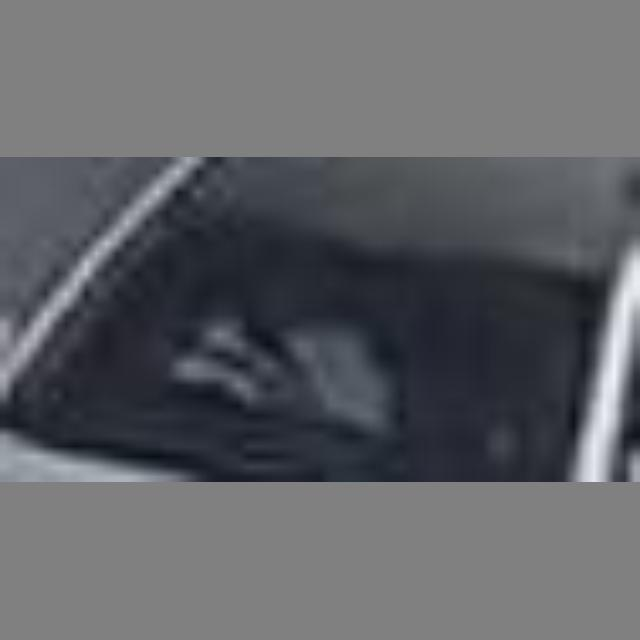pakai: (142, 259, 417, 441)
